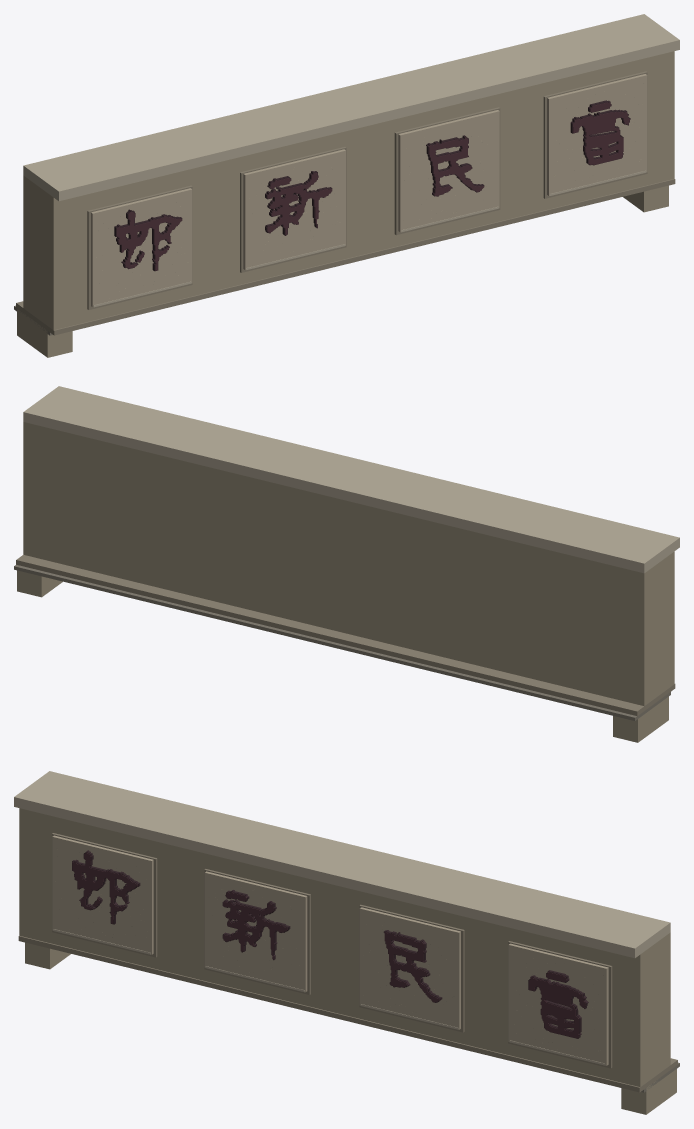
File: jingan-fumin-village-four-sign-panels-lod.glb
3 renders of one model, top to bottom at view 1: azimuth 30°, elevation 25°; view 2: azimuth 150°, elevation 25°; view 3: azimuth 330°, elevation 25°, orthographic.
Parts seen in each view (by area): view 1: 富民新邨弄口四块字牌与通道过梁; view 2: 富民新邨弄口四块字牌与通道过梁; view 3: 富民新邨弄口四块字牌与通道过梁.
Boxes of the visible parts, x1,y1,x2,y2 form: 富民新邨弄口四块字牌与通道过梁: (14,14,679,357); 富民新邨弄口四块字牌与通道过梁: (14,386,679,742); 富民新邨弄口四块字牌与通道过梁: (14,771,679,1114).
Size of the model in its own units: 4.99 by 1.34 by 0.625.
